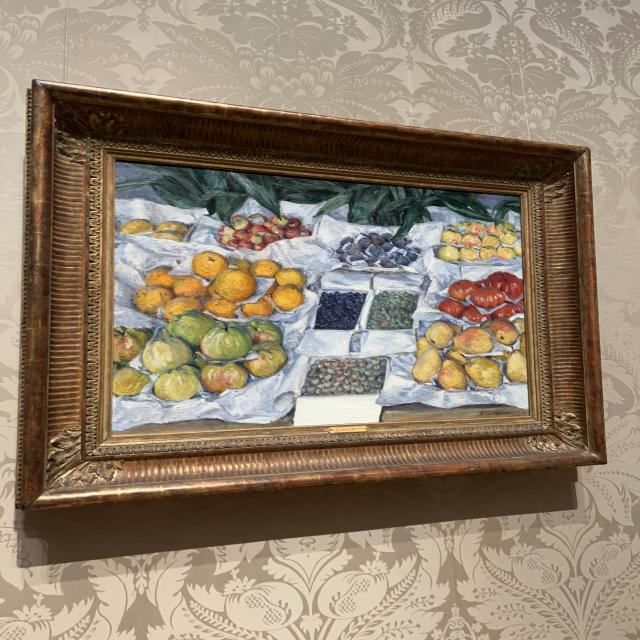fruits: (115, 165, 528, 432)
